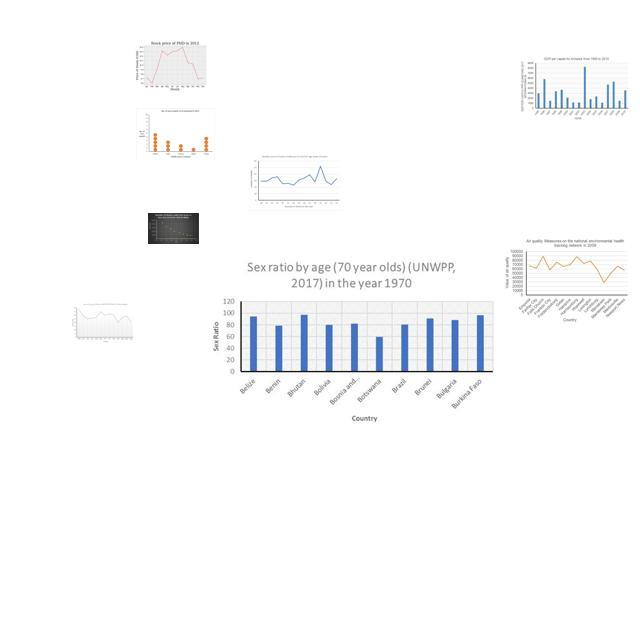Graph: (204, 255, 497, 425), (502, 236, 630, 326), (519, 55, 630, 120), (248, 154, 342, 211), (134, 35, 214, 95), (136, 108, 215, 160), (71, 302, 134, 343), (148, 213, 199, 244)
